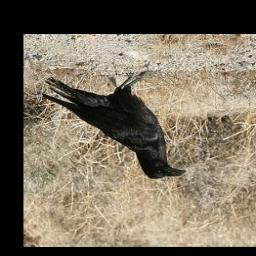Crow: (42, 71, 187, 180)
